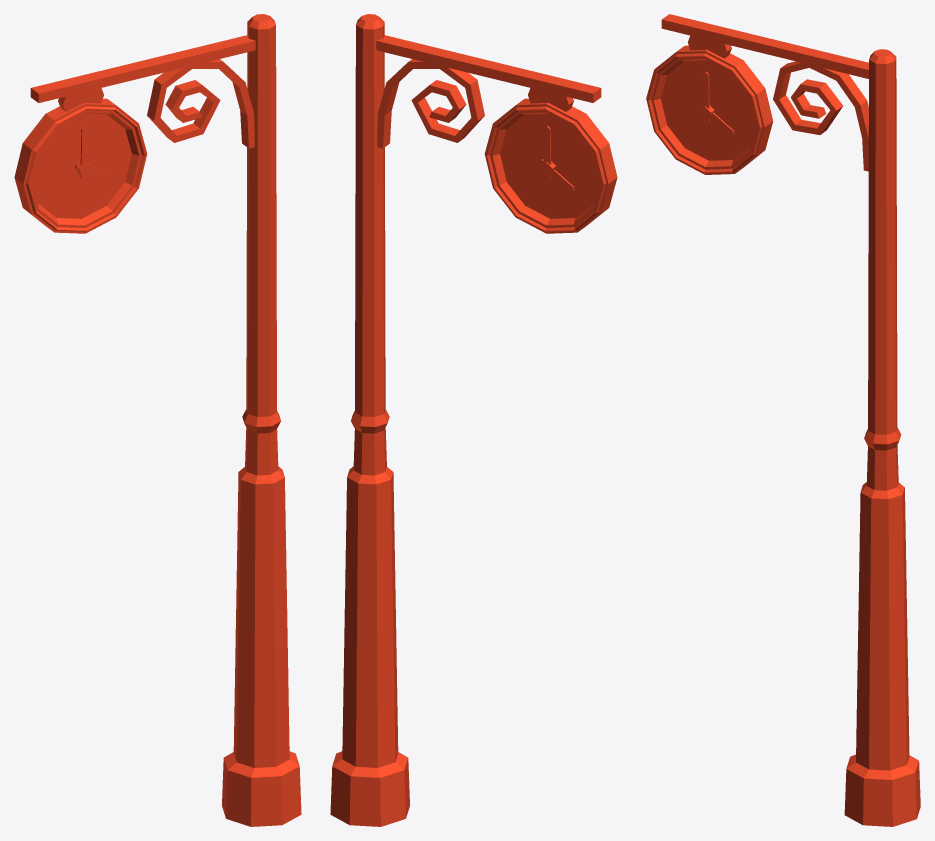
The model's file is SM_Clock_B_City.fbx.
3 renders of one model, left to right at view 1: azimuth 30°, elevation 25°; view 2: azimuth 150°, elevation 25°; view 3: azimuth 330°, elevation 25°, orthographic. The views are drawn at different scales.
Visible parts, largest first — view 1: SM_Clock_B_City; view 2: SM_Clock_B_City; view 3: SM_Clock_B_City.
Boxes of the visible parts, left/top/right/bottom form: SM_Clock_B_City: left=14, top=14, right=301, bottom=826; SM_Clock_B_City: left=330, top=14, right=617, bottom=826; SM_Clock_B_City: left=646, top=14, right=920, bottom=826.
Size of the model in its own units: 1.31 by 3.57 by 0.3364.
